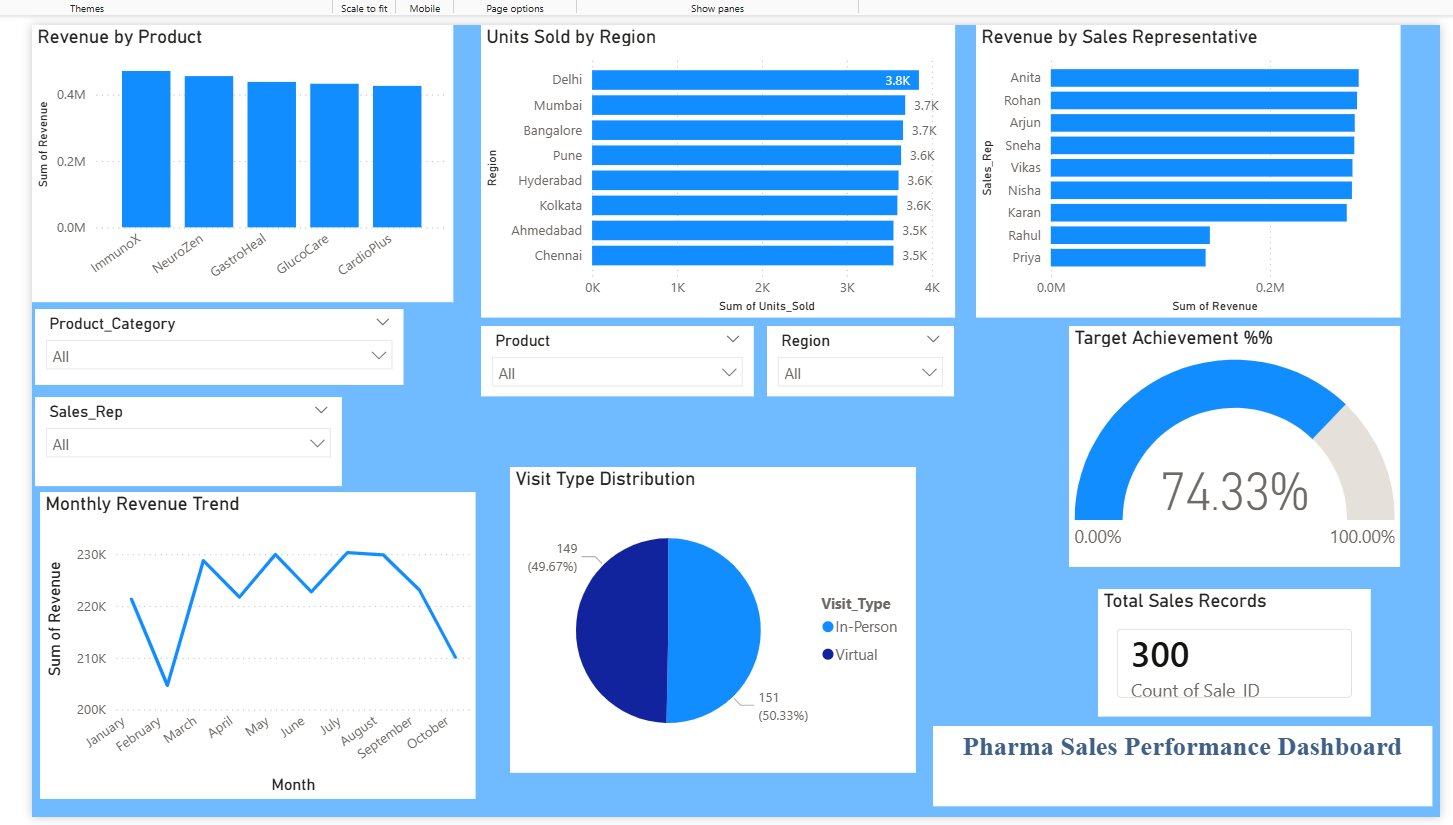

The page's visual inventory and layout, read from the dashboard file:
{"tool":"powerbi","page":{"name":"Page 1","canvas":[1280,720],"ordinal":0},"visuals":[{"type":"clusteredColumnChart","title":"Revenue by Product","fields":{"Y":["Sum(Table1.Revenue)"],"Category":["Table1.Product"]},"box":[0,0,383.4,252],"z":0},{"type":"clusteredBarChart","title":"Units Sold by Region","fields":{"Category":["Table1.Region"],"Y":["Sum(Table1.Units_Sold)"]},"box":[407.9,0,430.9,266],"z":1000},{"type":"cardVisual","title":"Total Sales Records","fields":{"Data":["CountNonNull(Table1.Sale_ID)"]},"box":[969.2,512.5,248.3,116.2],"z":2000},{"type":"gauge","title":"Target Achievement %%","fields":{"Y":["Table1.Target_Achievement_%"]},"box":[942.6,274,301.5,219],"z":3000},{"type":"lineChart","title":"Monthly Revenue Trend","fields":{"Category":["Table1.Date.Variation.Date Hierarchy.Month"],"Y":["Sum(Table1.Revenue)"]},"box":[7,424.7,395.7,278.8],"z":4000},{"type":"barChart","title":"Revenue by Sales Representative","fields":{"Y":["Sum(Table1.Revenue)"],"Category":["Table1.Sales_Rep"]},"box":[858.3,0,385.7,266],"z":5000},{"type":"pieChart","title":"Visit Type Distribution","fields":{"Category":["Table1.Visit_Type"],"Y":["CountNonNull(Table1.Sale_ID)"]},"box":[434.5,401.7,368.9,278.4],"z":6000},{"type":"slicer","fields":{"Values":["Table1.Product"]},"box":[407.9,274,248.3,63.8],"z":7000},{"type":"slicer","fields":{"Values":["Table1.Region"]},"box":[668.6,274,170.2,63.8],"z":8000},{"type":"slicer","fields":{"Values":["Table1.Product_Category"]},"box":[2.7,258,335.2,69.2],"z":9000},{"type":"slicer","fields":{"Values":["Table1.Sales_Rep"]},"box":[2.7,337.8,279.3,80.7],"z":10000},{"type":"textbox","box":[819.3,637.5,454,72.7],"z":11000}]}

Visuals, with their boxes on the page's 1280x720 design canvas (x1, y1, x2, y2). These are canvas units, not pixel positions in the 1453x825 screenshot, which may show the page scaled, cropped or inside an application window:
"Revenue by Product" clusteredColumnChart: box(0, 0, 383, 252)
"Units Sold by Region" clusteredBarChart: box(408, 0, 839, 266)
"Total Sales Records" cardVisual: box(969, 512, 1218, 629)
"Target Achievement %%" gauge: box(943, 274, 1244, 493)
"Monthly Revenue Trend" lineChart: box(7, 425, 403, 704)
"Revenue by Sales Representative" barChart: box(858, 0, 1244, 266)
"Visit Type Distribution" pieChart: box(434, 402, 803, 680)
slicer - Table1.Product: box(408, 274, 656, 338)
slicer - Table1.Region: box(669, 274, 839, 338)
slicer - Table1.Product_Category: box(3, 258, 338, 327)
slicer - Table1.Sales_Rep: box(3, 338, 282, 418)
textbox: box(819, 638, 1273, 710)
